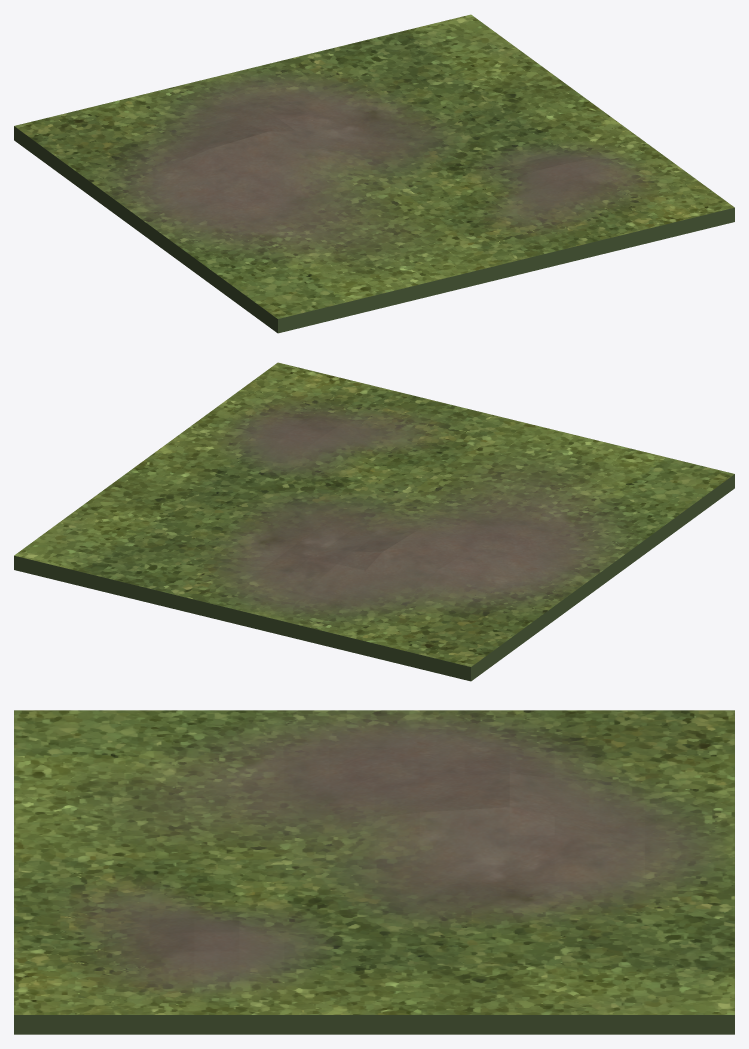
The model's file is 3DObj_Grassland_V1.fbx.
The picture shows the model from 3 angles, top to bottom: view 1: azimuth 30°, elevation 25°; view 2: azimuth 150°, elevation 25°; view 3: azimuth 270°, elevation 25°; orthographic projection. The views are drawn at different scales.
Visible parts, largest first — view 1: 3DObj_Grassland_V1; view 2: 3DObj_Grassland_V1; view 3: 3DObj_Grassland_V1.
Part boxes in pixels (bbox=[...]): 3DObj_Grassland_V1: bbox=[14, 14, 734, 333]; 3DObj_Grassland_V1: bbox=[14, 362, 734, 681]; 3DObj_Grassland_V1: bbox=[14, 710, 734, 1034].
Bounding box in the file's own units: 1000 × 56.55 × 1000.
Materials: 1 (1 with a texture image).
